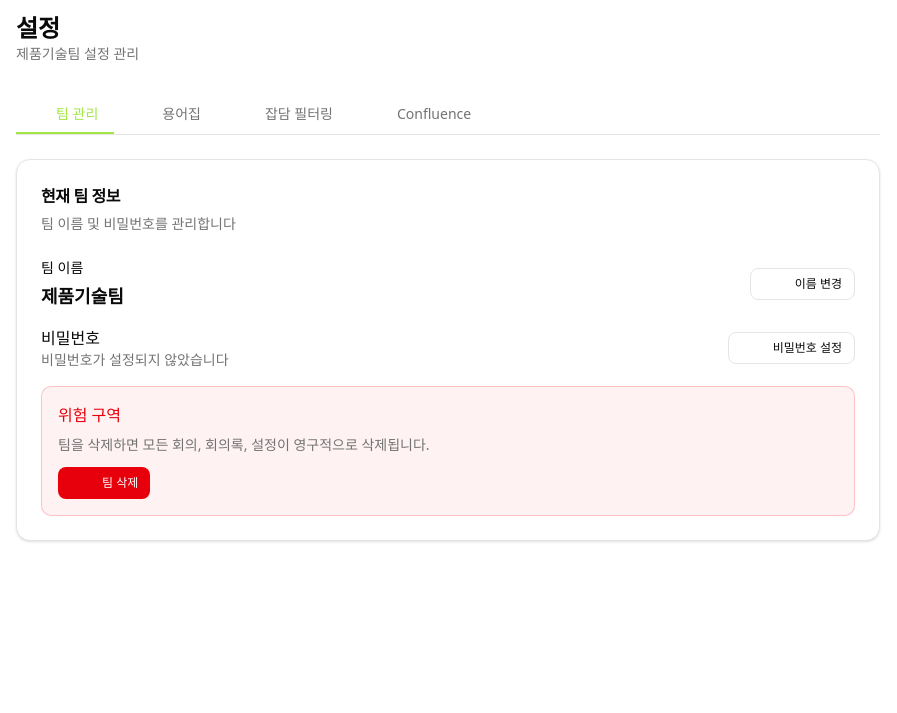
it: SettingsPage › Tab Navigation › switches to filtering tab
The width and height of the screenshot is (897, 713).
Click the button "잡담 필터링" at (287, 115), box x1=225 y1=96 x2=349 y2=134
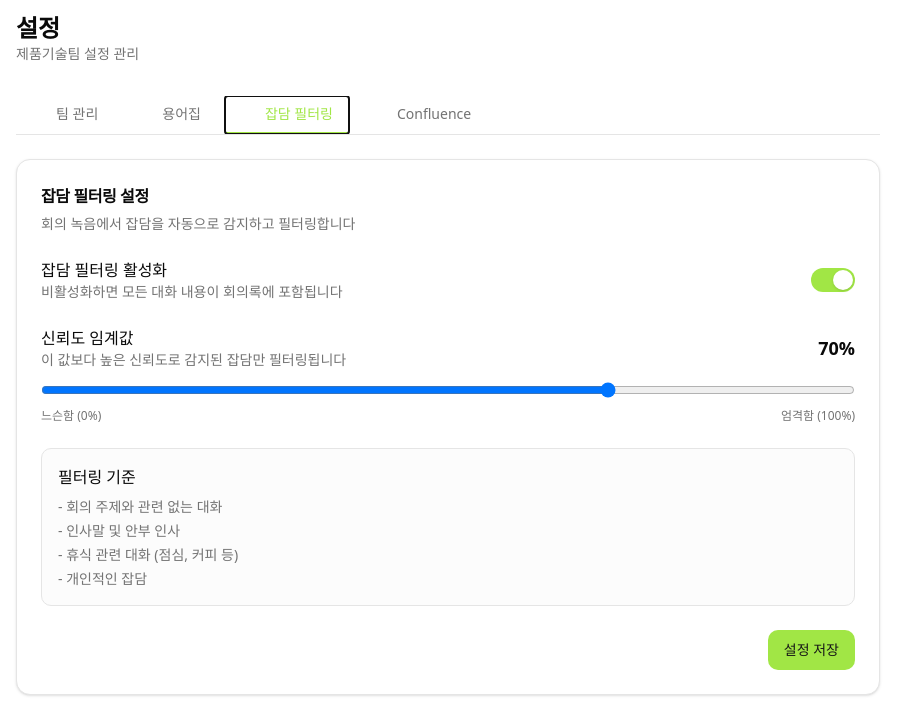
Expected: the heading "잡담 필터링 설정" is shown, x1=41 y1=185 x2=149 y2=207
